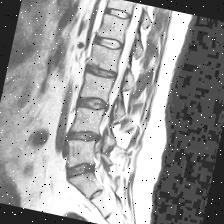disc: (91, 32, 128, 56), (102, 3, 135, 25)
hdisc: (61, 154, 100, 186), (65, 124, 105, 150), (74, 92, 113, 118), (83, 60, 121, 86)
